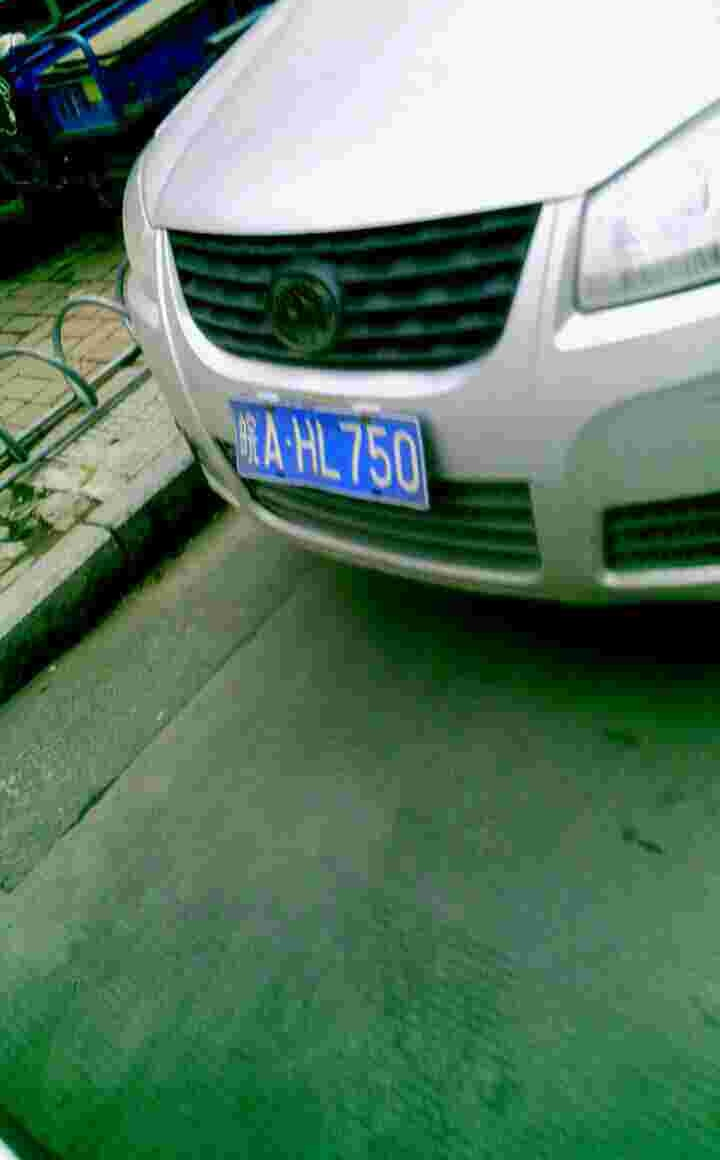plate: (226, 387, 432, 511)
